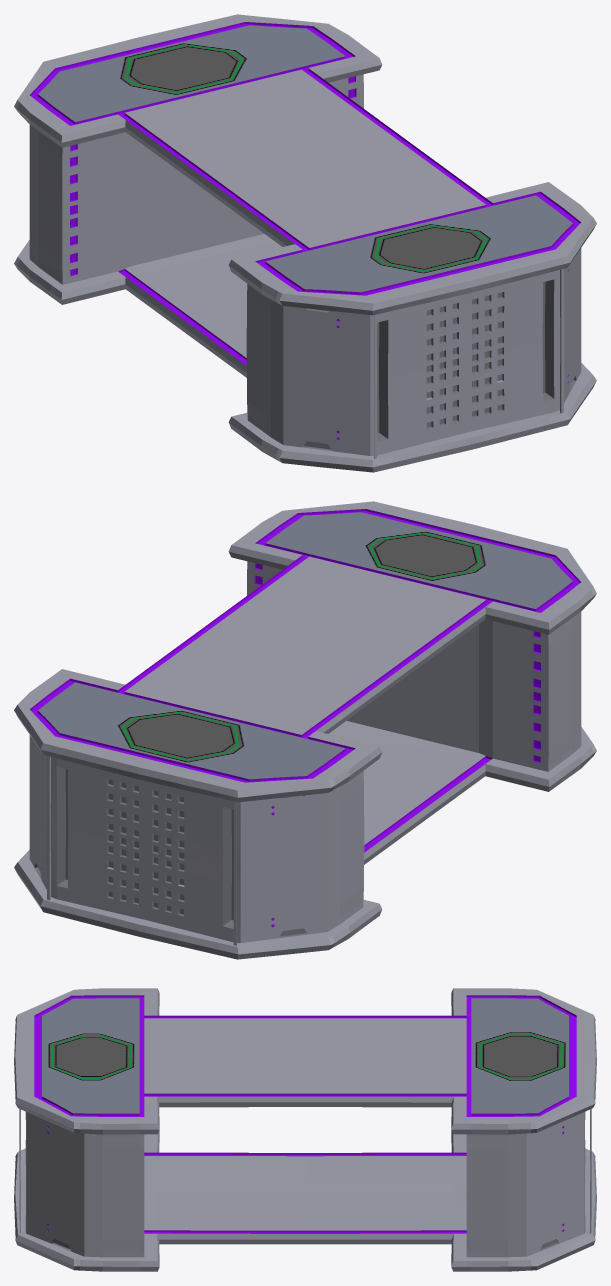
File: HandcartCounter.fbx
3 views of the same model, one above another, from view 1: azimuth 30°, elevation 25°; view 2: azimuth 150°, elevation 25°; view 3: azimuth 270°, elevation 25° (orthographic). The views are drawn at different scales.
Parts seen in each view (by area): view 1: BancadaHandcart; view 2: BancadaHandcart; view 3: BancadaHandcart.
Boxes of the visible parts, bbox=[...] form: BancadaHandcart: bbox=[14, 14, 596, 472]; BancadaHandcart: bbox=[14, 501, 596, 959]; BancadaHandcart: bbox=[14, 988, 596, 1271].
Bounding box in the file's own units: 149 × 268 × 75.26.
Materials: 4 (1 with a texture image).
